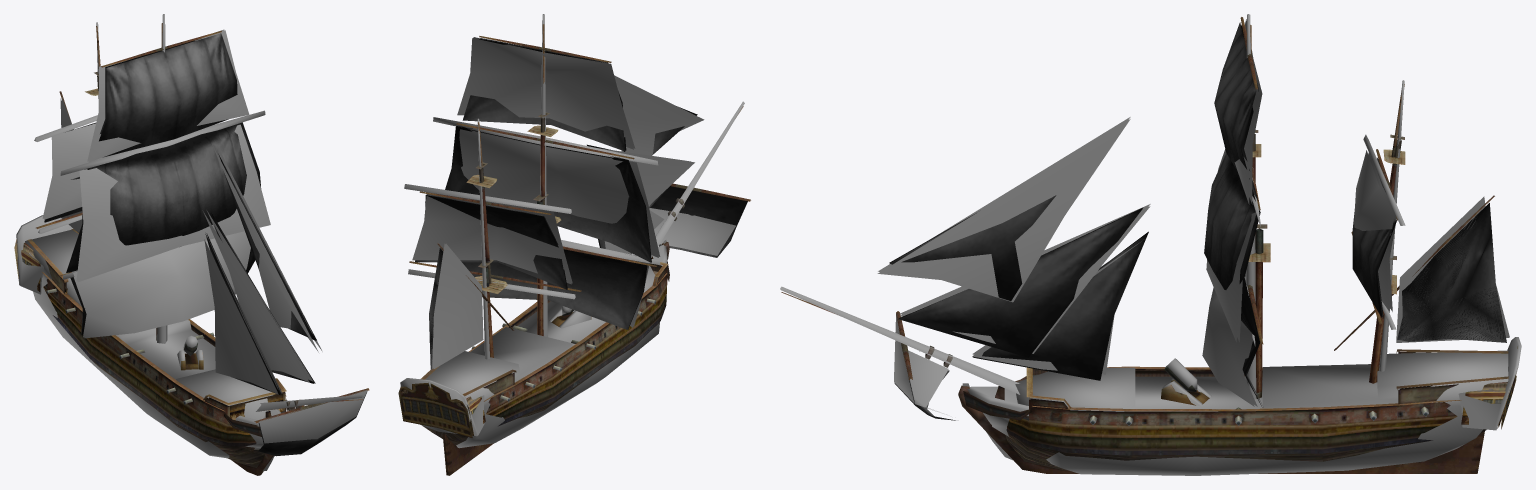
The model's file is F_Ship_07.fbx.
3 renders of one model, left to right at view 1: azimuth 30°, elevation 25°; view 2: azimuth 150°, elevation 25°; view 3: azimuth 270°, elevation 25°, orthographic. The views are drawn at different scales.
Visible parts, largest first — view 1: F_Ship_07_FakeShadow, F_Ship_07_Sail, F_Ship_07; view 2: F_Ship_07_FakeShadow, F_Ship_07_Sail, F_Ship_07; view 3: F_Ship_07_FakeShadow, F_Ship_07_Sail, F_Ship_07.
Part boxes in pixels (left/top/right/bottom): F_Ship_07_FakeShadow: left=16, top=14, right=367, bottom=471; F_Ship_07_Sail: left=44, top=33, right=367, bottom=456; F_Ship_07: left=14, top=23, right=369, bottom=475; F_Ship_07_FakeShadow: left=400, top=14, right=744, bottom=448; F_Ship_07_Sail: left=415, top=38, right=747, bottom=370; F_Ship_07: left=398, top=24, right=750, bottom=475; F_Ship_07_FakeShadow: left=780, top=14, right=1521, bottom=475; F_Ship_07_Sail: left=889, top=22, right=1506, bottom=420; F_Ship_07: left=781, top=17, right=1517, bottom=473.
Size of the model in its own units: 0.4078 by 0.7088 by 1.04.
Materials: 3 (2 with a texture image).
